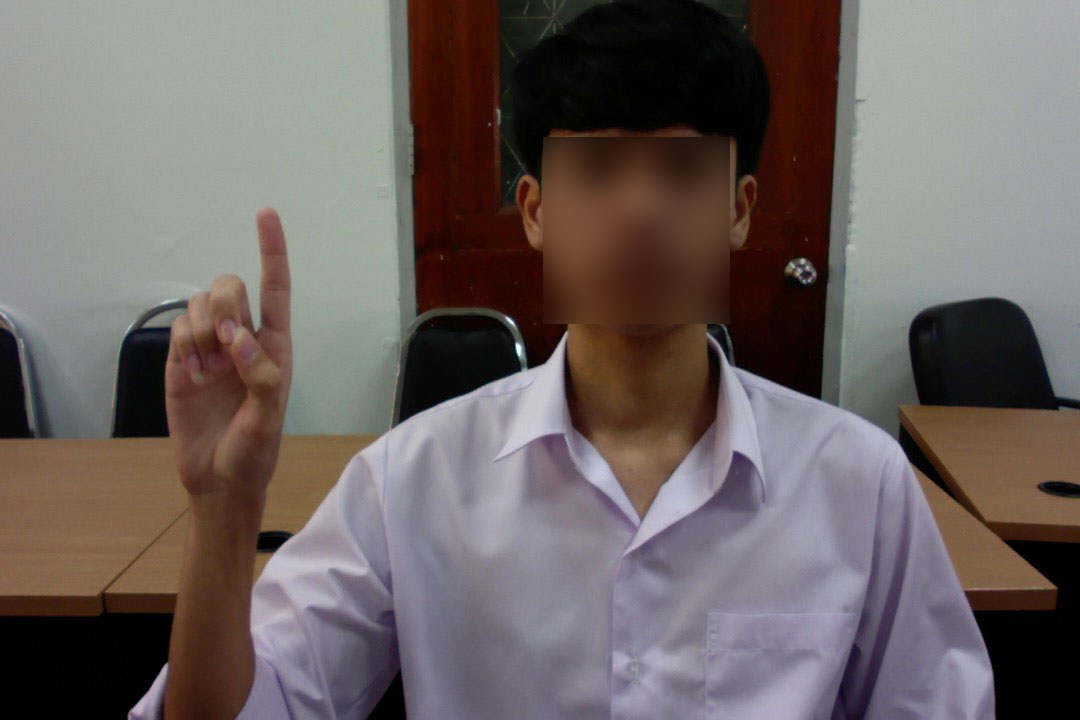dor: (161, 200, 311, 525)
